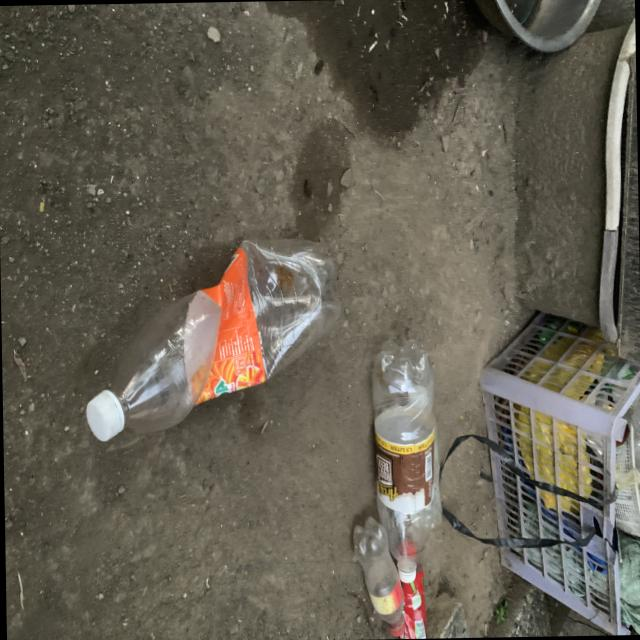Bottle: (84, 239, 339, 441)
